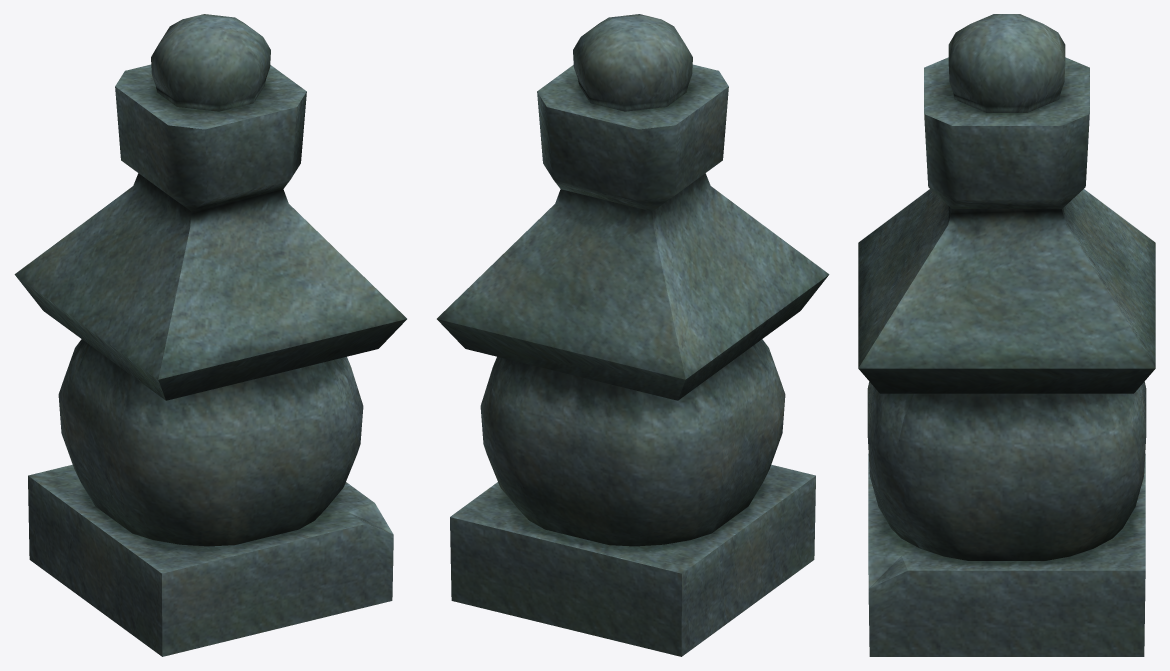
Rendered from BgMD_Sano_Houtou_01.fbx.
3 views of the same model, side by side, from view 1: azimuth 30°, elevation 25°; view 2: azimuth 150°, elevation 25°; view 3: azimuth 270°, elevation 25° (orthographic). The views are drawn at different scales.
Visible parts, largest first — view 1: pCube5; view 2: pCube5; view 3: pCube5.
Boxes of the visible parts, x1,y1,x2,y2 form: pCube5: [14, 14, 406, 656]; pCube5: [437, 14, 829, 656]; pCube5: [858, 14, 1155, 656].
Bounding box in the file's own units: 46.85 × 100 × 46.85.
